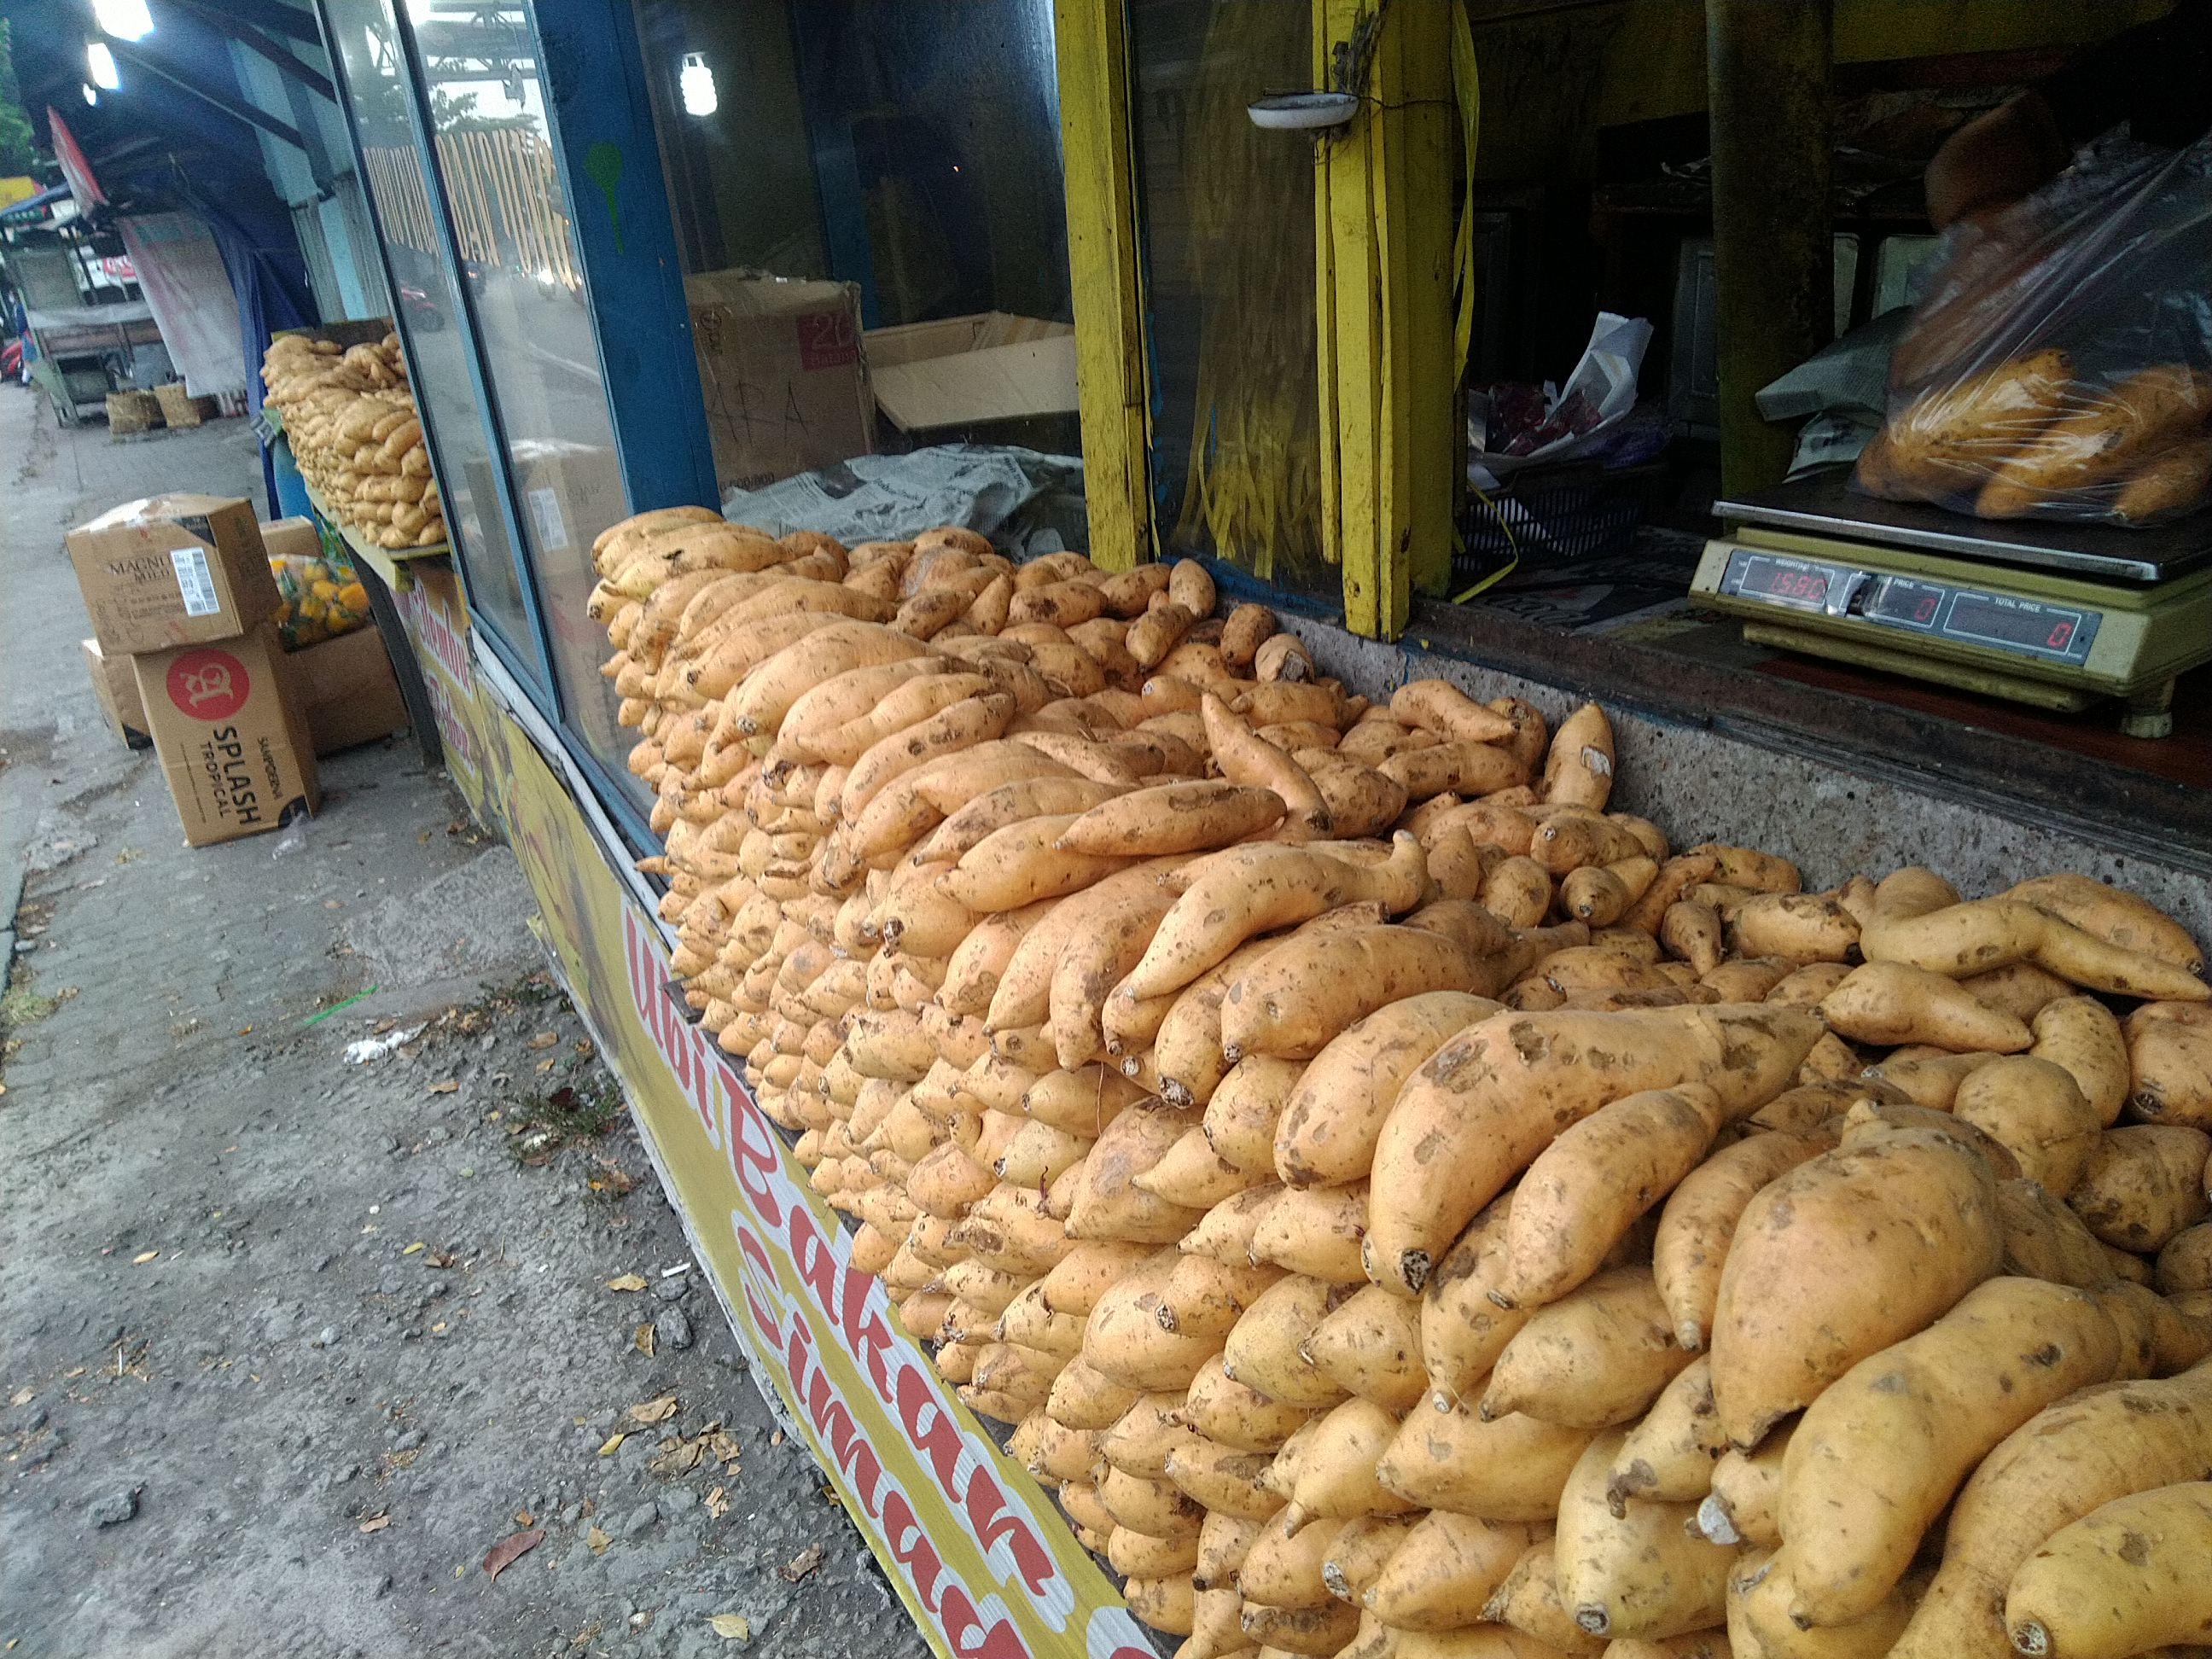ubi cilembu: (852, 770, 2212, 1657), (583, 505, 1517, 1192), (1778, 1272, 2109, 1640), (1369, 985, 1743, 1298), (1712, 1103, 2017, 1459), (1273, 972, 1522, 1216), (1486, 1082, 1731, 1326), (1115, 826, 1442, 1009), (1850, 882, 2212, 1009), (260, 331, 439, 537), (1811, 951, 2038, 1075), (1186, 683, 1338, 836), (791, 662, 1015, 765), (1052, 781, 1289, 864), (1524, 802, 1656, 889), (1378, 669, 1508, 751), (1120, 596, 1202, 666), (1158, 537, 1217, 622)
